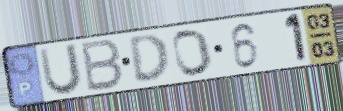1: (282, 10, 309, 64)
6: (229, 21, 261, 70)
B: (80, 37, 126, 94)
D: (126, 32, 172, 85)
O: (171, 27, 215, 78)
U: (36, 41, 85, 98)
